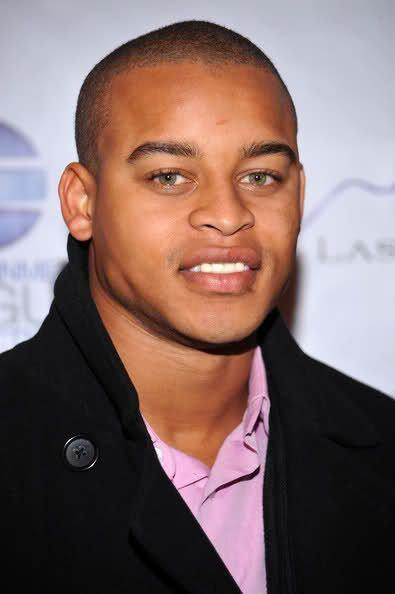Sober: (112, 72, 293, 342)
